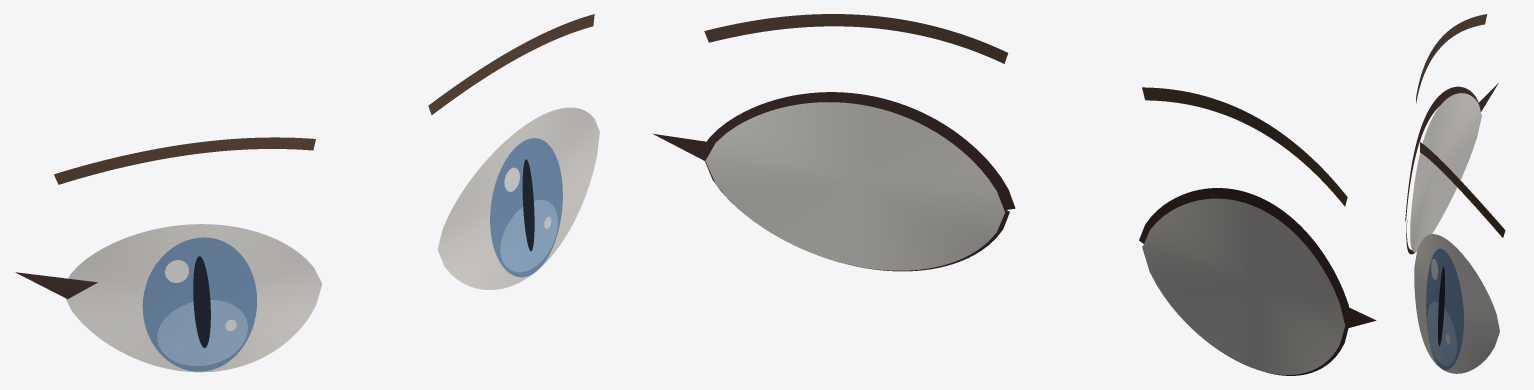
Rendered from male_eyes_ref10.glb.
3 renders of one model, left to right at view 1: azimuth 30°, elevation 25°; view 2: azimuth 150°, elevation 25°; view 3: azimuth 270°, elevation 25°, orthographic. The views are drawn at different scales.
Parts seen in each view (by area): view 1: Eye_White_-1, Eye_White_1, Eye_Iris_-1, Eye_Iris_1, Eye_Iris_Light_-1, Eyebrow_-1, Eye_Iris_Light_1, Eyebrow_1, Eye_Pupil_-1, Eye_LashWing_-1, Eye_Pupil_1; view 2: Eye_White_1, Eye_White_-1, Eye_UpperLid_1, Eyebrow_1, Eye_UpperLid_-1, Eyebrow_-1; view 3: Eye_White_-1, Eye_White_1, Eye_Iris_1, Eye_Iris_Light_1, Eyebrow_1, Eye_UpperLid_-1, Eyebrow_-1, Eye_Pupil_1, Eye_LashWing_-1, Eye_Glint_1_0.
Boxes of the visible parts, x1=… form: Eye_White_-1: x1=65, y1=224, x2=322, y2=372; Eye_White_1: x1=437, y1=107, x2=599, y2=289; Eye_Iris_-1: x1=142, y1=237, x2=256, y2=371; Eye_Iris_1: x1=490, y1=138, x2=562, y2=277; Eye_Iris_Light_-1: x1=157, y1=300, x2=247, y2=366; Eyebrow_-1: x1=54, y1=137, x2=315, y2=184; Eye_Iris_Light_1: x1=500, y1=200, x2=557, y2=272; Eyebrow_1: x1=428, y1=14, x2=594, y2=114; Eye_Pupil_-1: x1=193, y1=256, x2=210, y2=347; Eye_LashWing_-1: x1=15, y1=272, x2=97, y2=299; Eye_Pupil_1: x1=522, y1=159, x2=534, y2=251; Eye_White_1: x1=705, y1=102, x2=1004, y2=270; Eye_White_-1: x1=1142, y1=198, x2=1344, y2=374; Eye_UpperLid_1: x1=699, y1=92, x2=1015, y2=209; Eyebrow_1: x1=704, y1=14, x2=1008, y2=63; Eye_UpperLid_-1: x1=1139, y1=188, x2=1352, y2=323; Eyebrow_-1: x1=1142, y1=87, x2=1347, y2=206; Eye_White_-1: x1=1410, y1=93, x2=1481, y2=252; Eye_White_1: x1=1414, y1=234, x2=1499, y2=373; Eye_Iris_1: x1=1426, y1=248, x2=1463, y2=369; Eye_Iris_Light_1: x1=1427, y1=301, x2=1456, y2=365; Eyebrow_1: x1=1420, y1=142, x2=1505, y2=237; Eye_UpperLid_-1: x1=1405, y1=86, x2=1478, y2=221; Eyebrow_-1: x1=1416, y1=14, x2=1487, y2=103; Eye_Pupil_1: x1=1438, y1=267, x2=1444, y2=346; Eye_LashWing_-1: x1=1478, y1=83, x2=1498, y2=111; Eye_Glint_1_0: x1=1431, y1=258, x2=1437, y2=279.
Size of the model in its own units: 0.4435 by 0.1637 by 0.0822.
